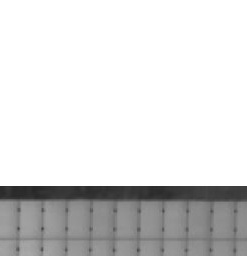solar: (15, 197, 45, 240), (40, 197, 70, 240), (63, 197, 93, 240), (87, 197, 117, 240), (112, 197, 142, 240), (136, 198, 166, 241), (160, 198, 190, 241), (184, 198, 214, 241), (208, 198, 238, 241)
